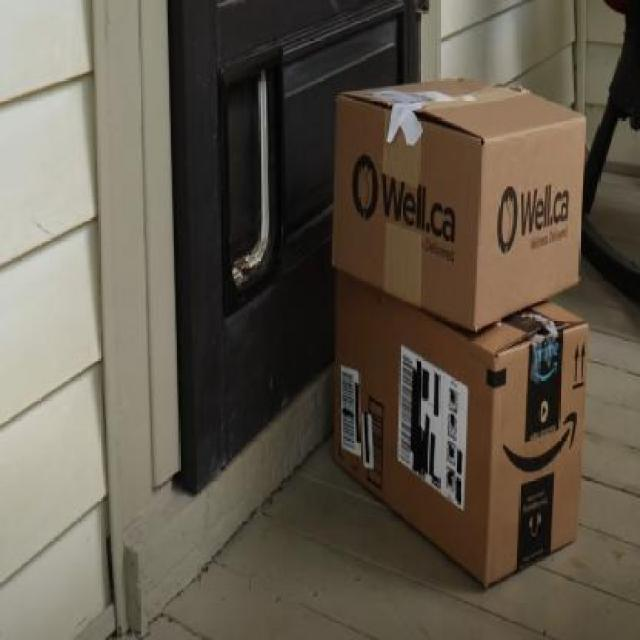box: (336, 273, 585, 588), (336, 74, 582, 338)
